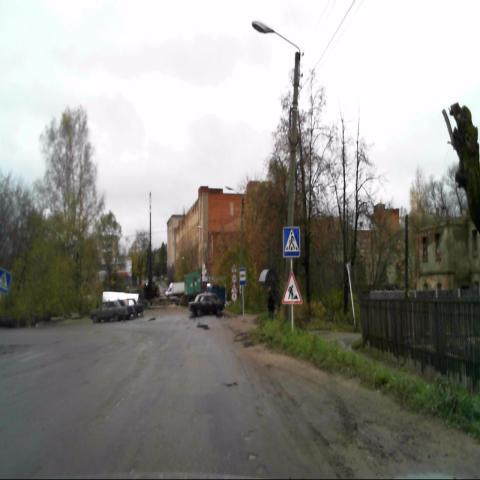1_25: (281, 271, 303, 305)
